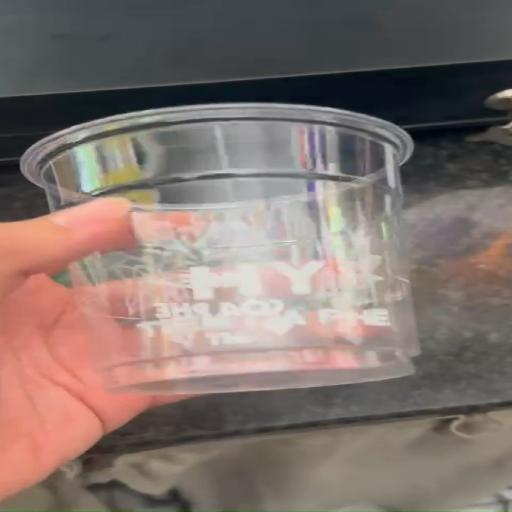ly_nhua: (20, 103, 418, 393)
